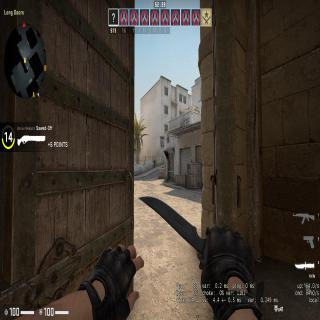CT-Body: (152, 159, 156, 168)
CT-Head: (154, 159, 154, 161)
